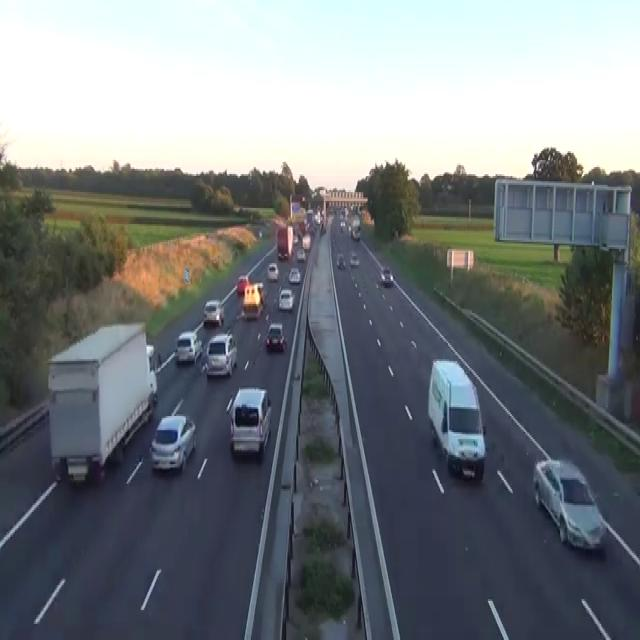Car: (532, 457, 605, 551), (225, 386, 272, 457), (149, 414, 196, 471), (204, 332, 237, 377), (174, 330, 202, 364), (339, 202, 361, 242), (242, 283, 264, 318), (146, 343, 158, 404), (202, 299, 224, 327), (265, 324, 286, 352), (146, 343, 161, 372), (278, 288, 294, 311), (380, 265, 393, 286), (255, 281, 266, 304), (236, 274, 249, 293), (266, 261, 278, 281), (288, 266, 301, 282), (336, 252, 346, 268), (349, 250, 359, 266), (302, 233, 310, 251), (292, 224, 299, 244), (296, 247, 305, 261), (278, 249, 288, 259), (352, 217, 360, 227), (320, 222, 326, 235), (308, 224, 315, 235), (339, 219, 345, 231), (293, 233, 298, 243), (347, 222, 351, 233), (258, 230, 262, 237)
Truck: (46, 320, 158, 485), (427, 357, 486, 480), (276, 226, 293, 260)
